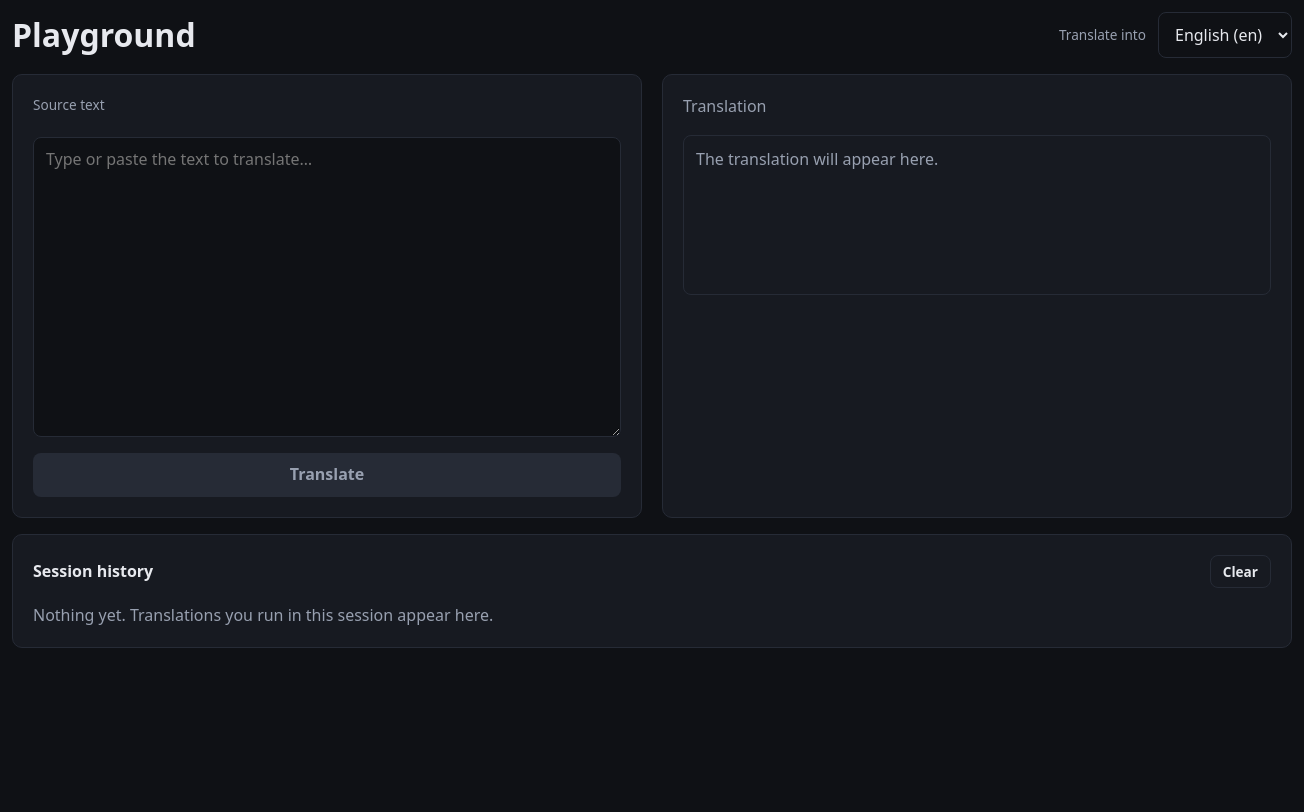
Test: Playground › lists the languages and translates the entered text on submit
The width and height of the screenshot is (1304, 812).
Type "hello world" into the text box labelled "Source text" at (327, 287), box [33,137,621,437]
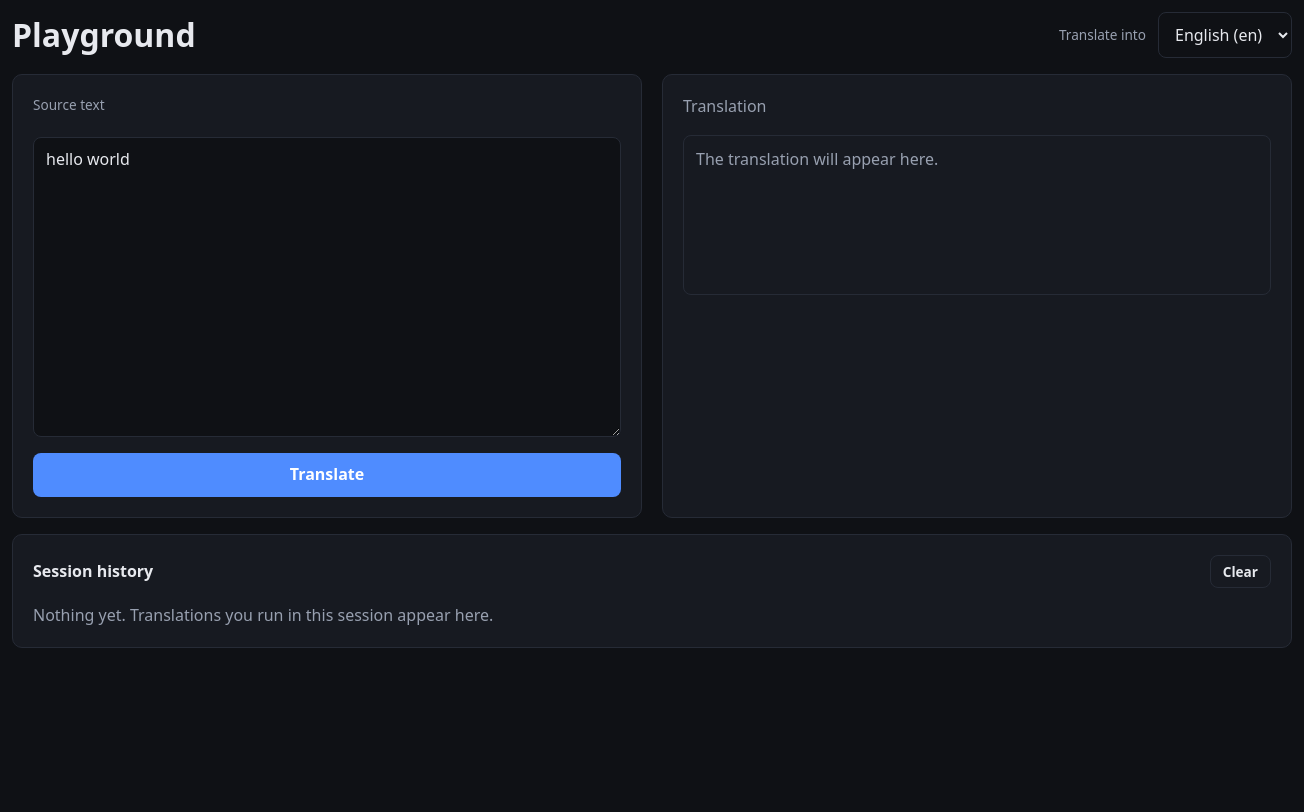
Click the button "Translate" at (327, 475), box [33,453,621,496]
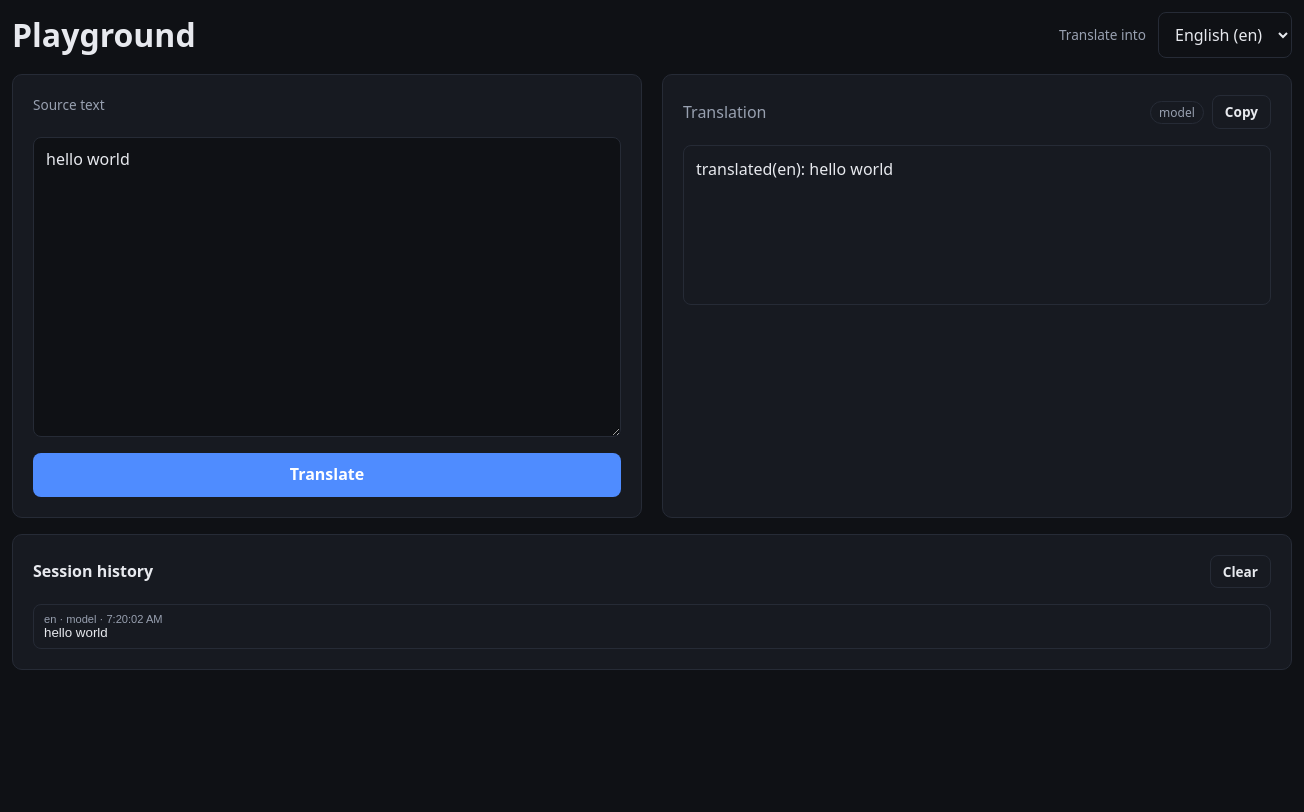
Now the text "translated(en): hello world" is shown, box [683,145,1271,305]
Now the text "en · model · 7:20:02 AM" is shown, box [44,613,163,625]
